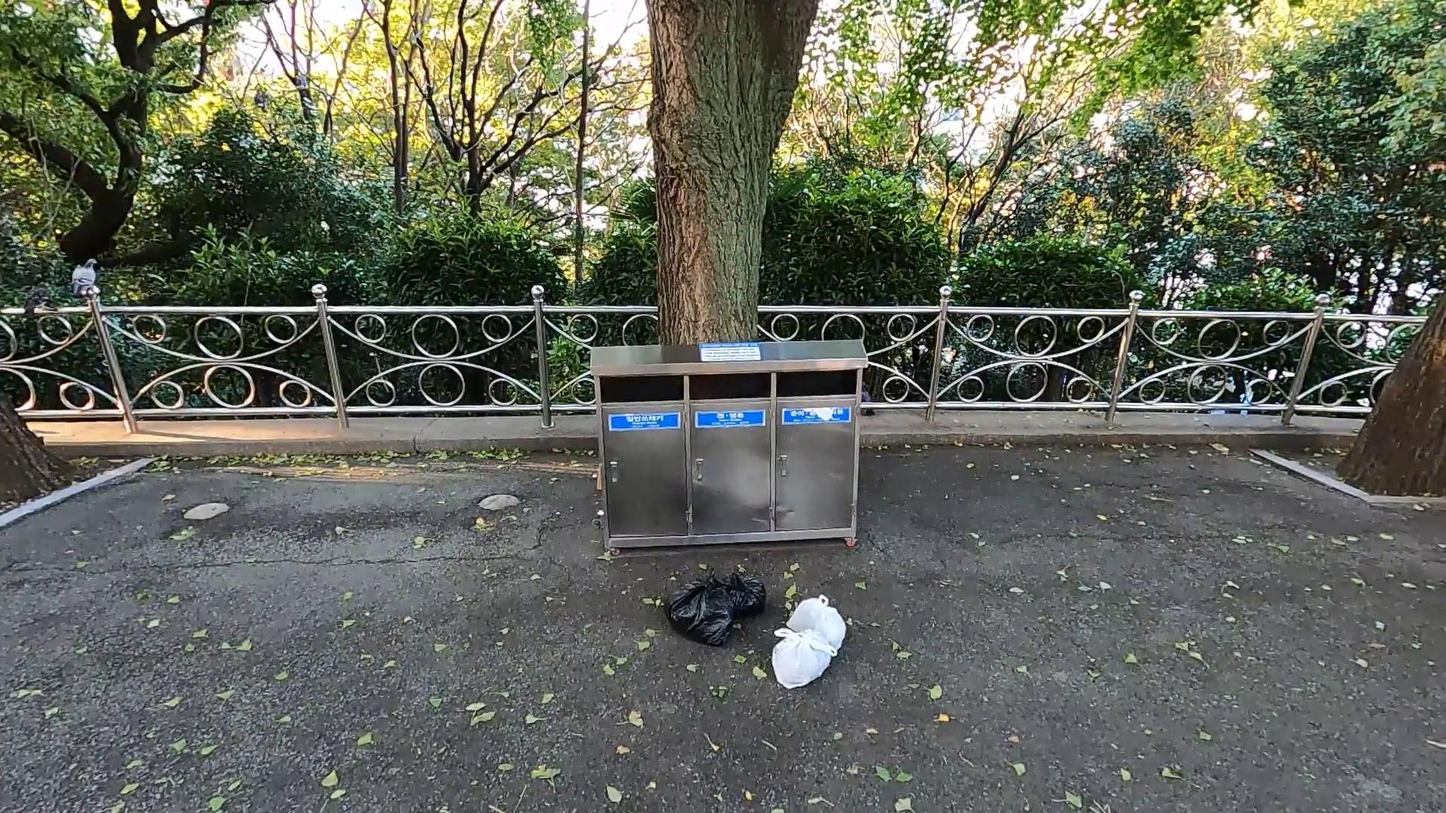trash: (650, 567, 740, 654), (768, 621, 840, 688), (781, 595, 854, 660), (715, 558, 771, 622)
